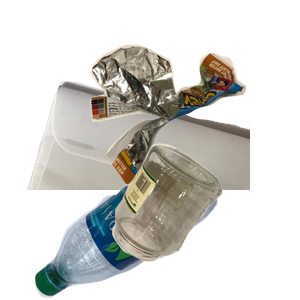glass: (110, 141, 300, 300)
paper: (25, 79, 265, 259)
plastic: (32, 154, 242, 300)
trash: (88, 42, 300, 219)
